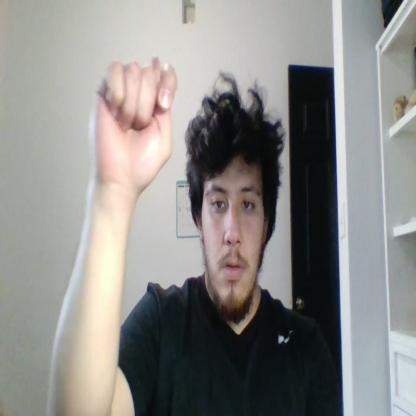T: (87, 55, 179, 195)
